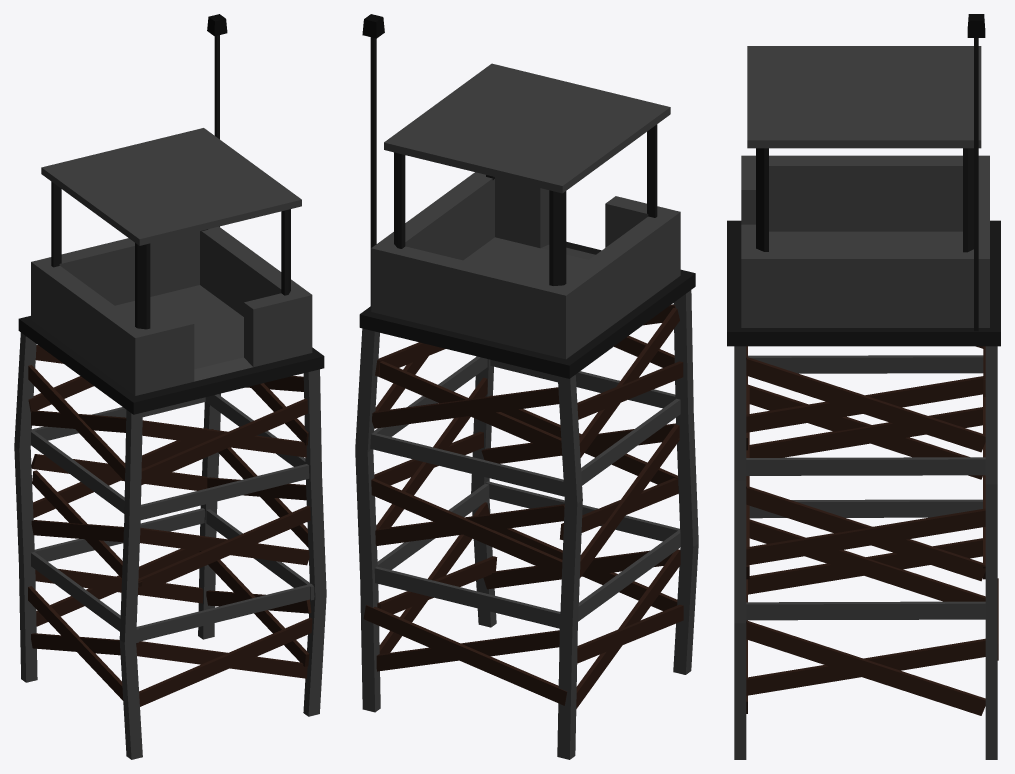
Rendered from Torre.FBX.
The picture shows the model from 3 angles, left to right: view 1: azimuth 30°, elevation 25°; view 2: azimuth 150°, elevation 25°; view 3: azimuth 270°, elevation 25°; orthographic projection. The views are drawn at different scales.
Parts seen in each view (by area): view 1: Plane007, Torre_vigilancia001; view 2: Plane007, Torre_vigilancia001; view 3: Plane007, Torre_vigilancia001.
Part boxes in pixels (x1,y1,x2,y2): Plane007: [14, 316, 326, 759]; Torre_vigilancia001: [31, 14, 312, 395]; Plane007: [355, 241, 698, 759]; Torre_vigilancia001: [362, 14, 680, 359]; Plane007: [727, 220, 1000, 759]; Torre_vigilancia001: [741, 14, 989, 331].
Bounding box in the file's own units: 688 × 2027 × 678.
